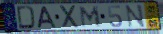5: (106, 5, 124, 29)
A: (36, 6, 58, 29)
D: (16, 5, 37, 30)
M: (79, 6, 102, 29)
N: (124, 4, 147, 29)
X: (59, 4, 81, 30)
